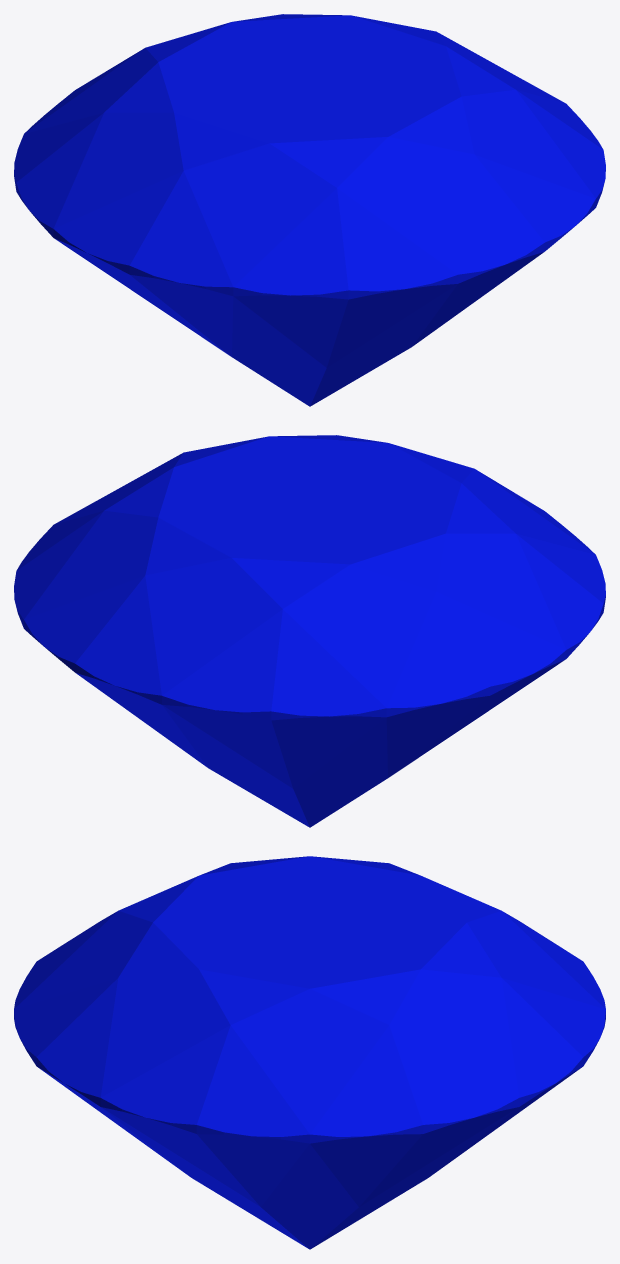
Rendered from diamonds.gltf.
3 renders of one model, top to bottom at view 1: azimuth 30°, elevation 25°; view 2: azimuth 150°, elevation 25°; view 3: azimuth 270°, elevation 25°, orthographic.
Parts seen in each view (by area): view 1: Diamond; view 2: Diamond; view 3: Diamond.
Part boxes in pixels (box(x1,y1,x2,y2)): Diamond: box(14, 14, 605, 406); Diamond: box(14, 435, 605, 827); Diamond: box(14, 856, 605, 1249).
Size of the model in its own units: 2 by 1.22 by 2.
